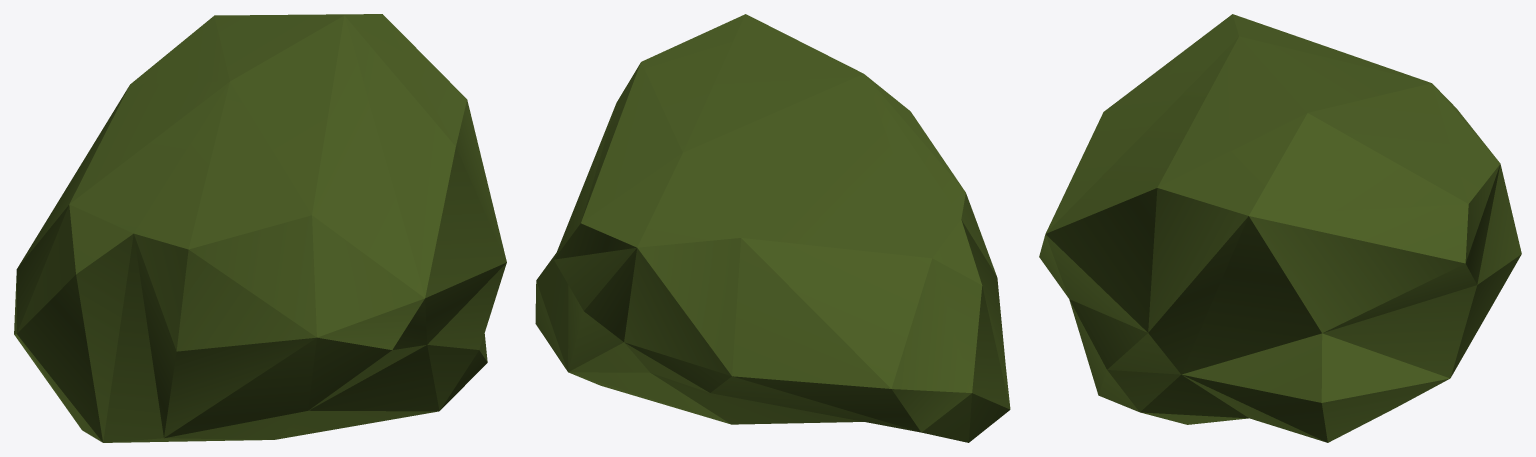
File: SM_bush_02.fbx
3 renders of one model, left to right at view 1: azimuth 30°, elevation 25°; view 2: azimuth 150°, elevation 25°; view 3: azimuth 270°, elevation 25°, orthographic. The views are drawn at different scales.
Visible parts, largest first — view 1: Object4123; view 2: Object4123; view 3: Object4123.
Part boxes in pixels (x1,y1,x2,y2): Object4123: (14,14,506,442); Object4123: (535,14,1010,442); Object4123: (1039,14,1521,442).
Size of the model in its own units: 45.83 by 35.54 by 42.62.
